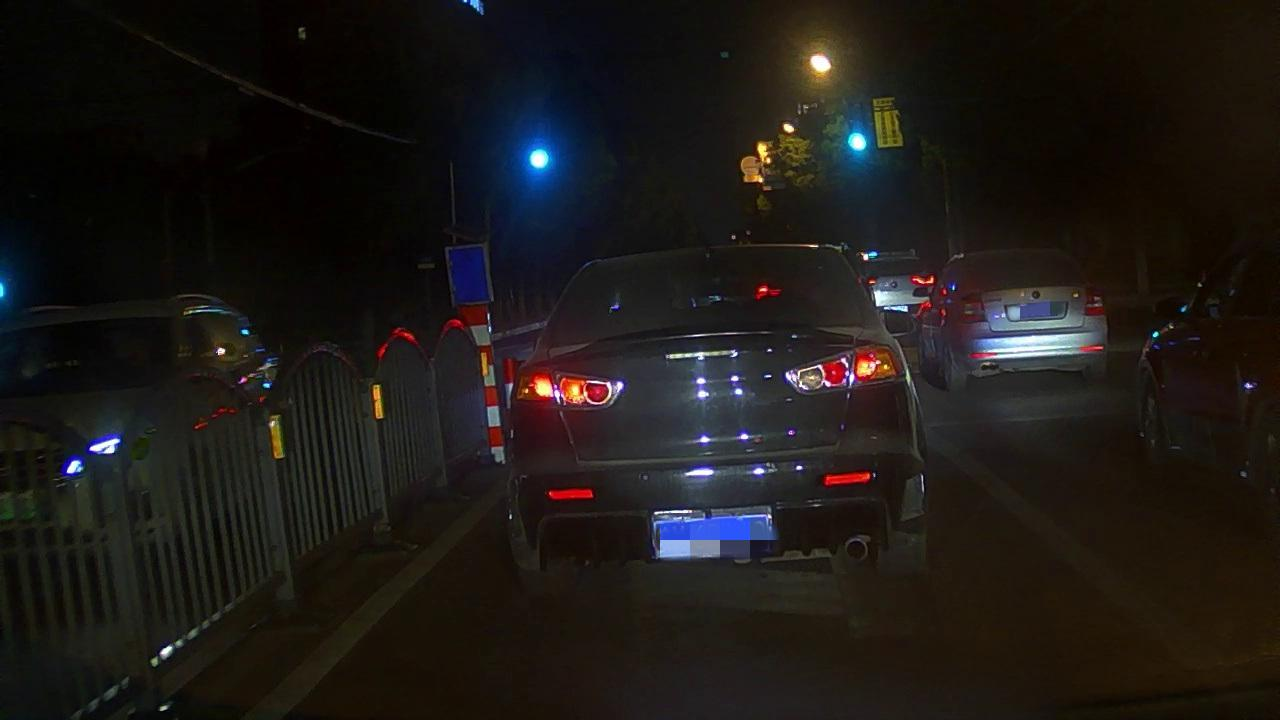traffic_light: (522, 141, 557, 175), (845, 127, 872, 155)
